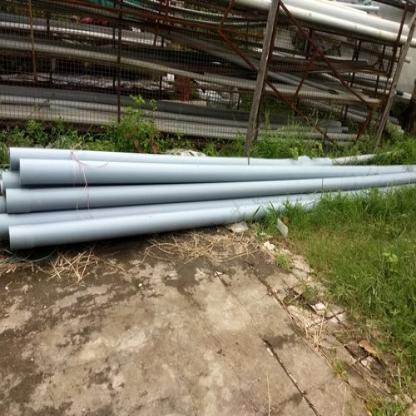PVC: (0, 148, 415, 251)
